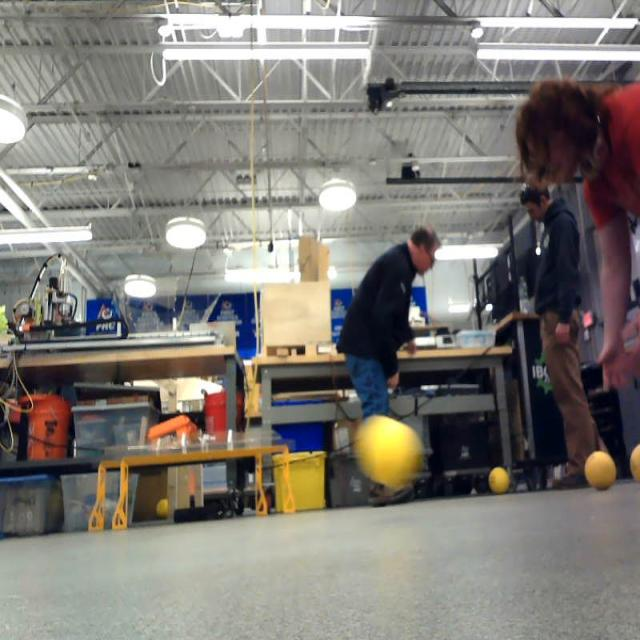Fuel: (369, 420, 415, 484), (585, 451, 616, 491), (491, 468, 508, 492), (631, 444, 640, 482), (157, 499, 168, 518)
